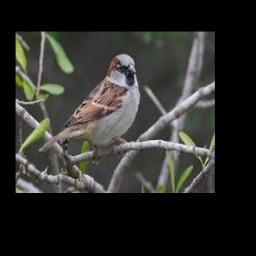Sparrow: (39, 54, 141, 153)
